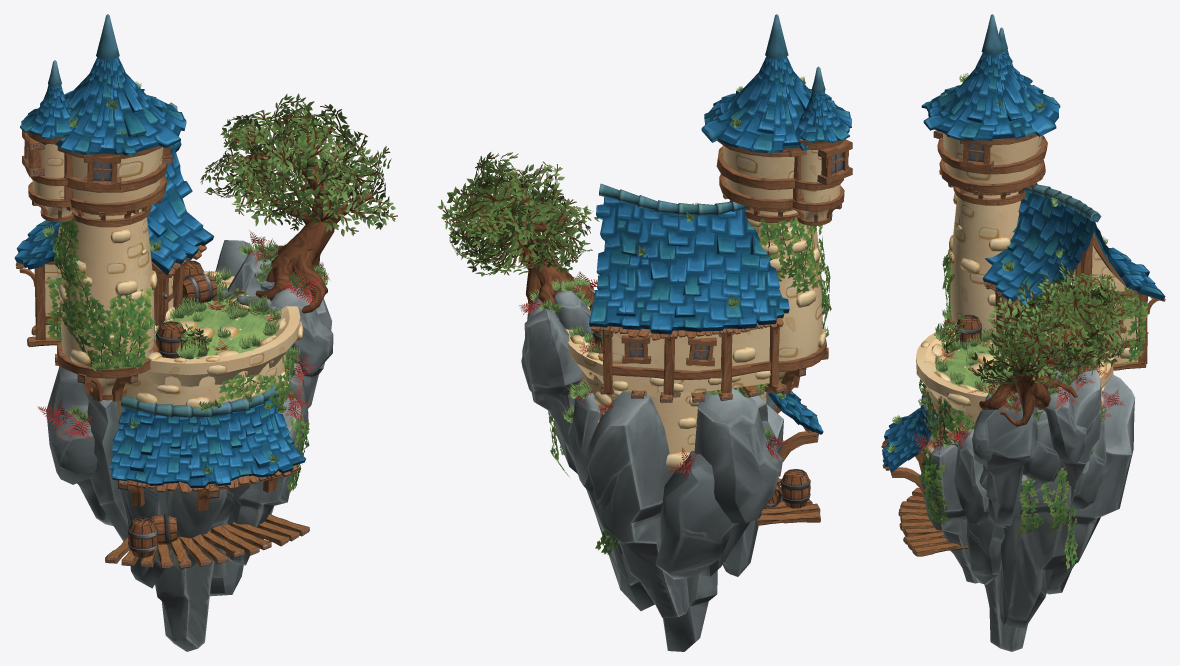
File: stylized-fantasy-island.glb
3 views of the same model, side by side, from view 1: azimuth 30°, elevation 25°; view 2: azimuth 150°, elevation 25°; view 3: azimuth 270°, elevation 25° (orthographic). The views are drawn at different scales.
Visible parts, largest first — view 1: roof, rocks_Material #413_0, leaves_op branches_0, tower base_wall_0, wood structure_wooden skel no op_0, klimop, base tower, grass_op branches_0, wood beams_wooden skel no op_0, tree trunk, stone details_wall_0, barrels (+5 smaller); view 2: rocks_Material #413_0, roof, leaves_op branches_0, wood structure_wooden skel no op_0, tower base_wall_0, house base_wall_0, klimop, stone details_wall_0, base tower, grass_op branches_0, windows_wooden skel no op_0, tree trunk (+4 smaller); view 3: rocks_Material #413_0, roof, leaves_op branches_0, tower base_wall_0, klimop, wood structure_wooden skel no op_0, grass_op branches_0, tree trunk, base tower, stone details_wall_0, wood beams_wooden skel no op_0, ferns_Material #650_0 (+4 smaller).
Boxes of the visible parts, x1,y1,x2,y2 form: roof: [14, 14, 305, 487]; rocks_Material #413_0: [46, 240, 333, 651]; leaves_op branches_0: [177, 93, 397, 355]; tower base_wall_0: [32, 144, 162, 400]; wood structure_wooden skel no op_0: [19, 132, 298, 510]; klimop: [46, 218, 309, 492]; base tower: [116, 271, 300, 427]; grass_op branches_0: [42, 81, 328, 473]; wood beams_wooden skel no op_0: [27, 325, 309, 568]; tree trunk: [240, 150, 372, 313]; stone details_wall_0: [58, 222, 303, 407]; barrels: [127, 260, 217, 557]; rocks_Material #413_0: [521, 288, 783, 651]; roof: [589, 14, 851, 434]; leaves_op branches_0: [437, 152, 599, 276]; wood structure_wooden skel no op_0: [603, 139, 845, 476]; tower base_wall_0: [722, 145, 840, 385]; house base_wall_0: [612, 326, 769, 392]; klimop: [548, 217, 831, 556]; stone details_wall_0: [570, 218, 825, 469]; base tower: [565, 306, 766, 453]; grass_op branches_0: [529, 76, 831, 439]; windows_wooden skel no op_0: [621, 139, 852, 366]; tree trunk: [489, 189, 594, 314]; rocks_Material #413_0: [919, 366, 1135, 651]; roof: [882, 14, 1165, 472]; leaves_op branches_0: [941, 261, 1147, 387]; tower base_wall_0: [942, 133, 1041, 332]; klimop: [918, 249, 1149, 569]; wood structure_wooden skel no op_0: [885, 84, 1158, 503]; grass_op branches_0: [886, 73, 1108, 454]; tree trunk: [979, 284, 1084, 426]; base tower: [916, 326, 1113, 448]; stone details_wall_0: [921, 192, 1137, 459]; wood beams_wooden skel no op_0: [898, 362, 1146, 556]; ferns_Material #650_0: [913, 340, 1125, 454].
Size of the model in its own units: 179 by 298 by 129.
Materials: 10 (10 with a texture image).
